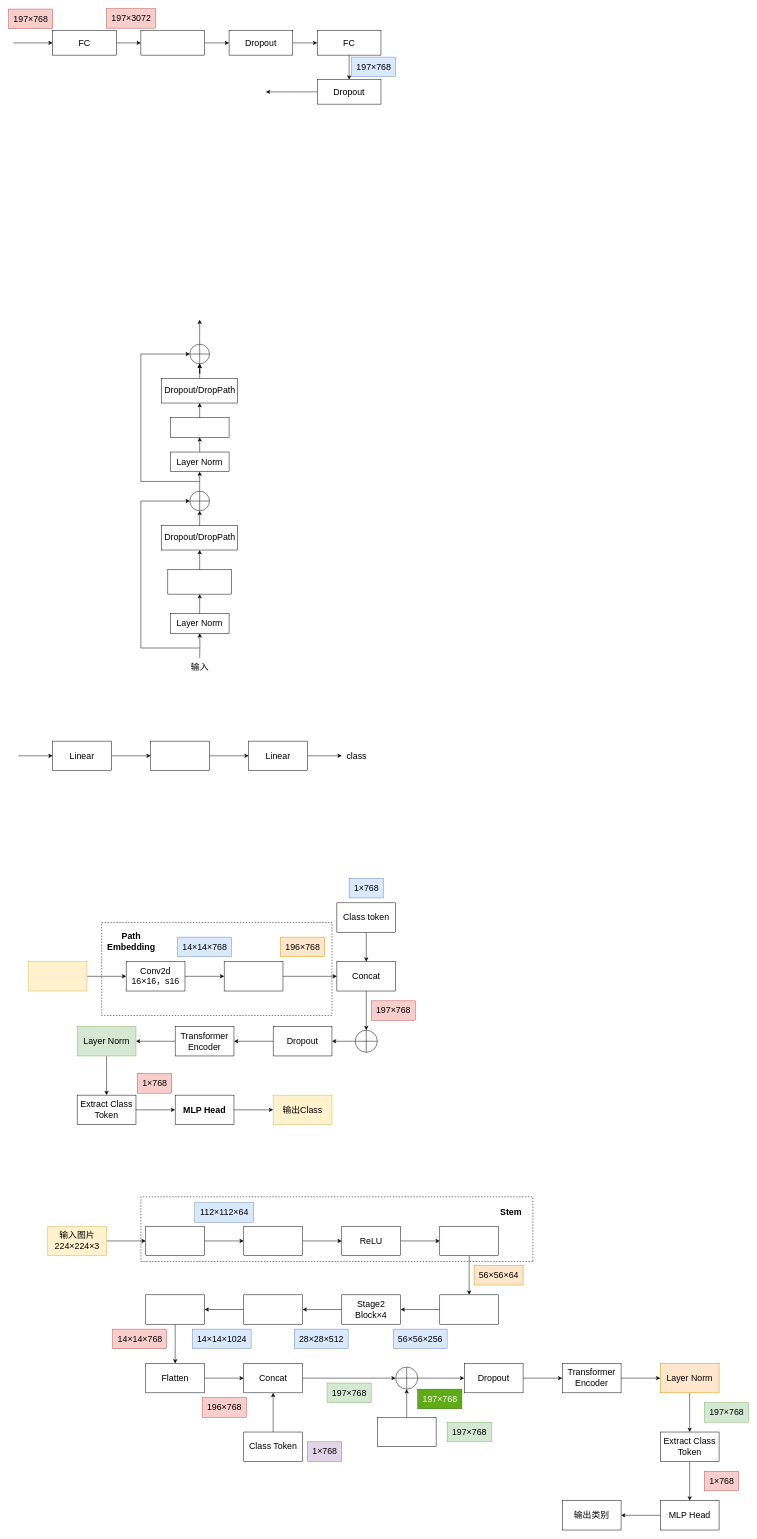
This 757x1539 diagram has some shape labels left out. Here are the shapes that lost their labels. From the top down, the centre of each, then its label:
At (x=172, y=42): "GELU".
At (x=199, y=427): "MLP Block".
At (x=199, y=581): "Multi-Head Attention".
At (x=179, y=756): "tanh函数".
At (x=57, y=976): "输入图片 （224×224×3）".
At (x=253, y=976): "Flattern".
At (x=175, y=1241): "StdConv2d 7×7，s2".
At (x=273, y=1241): "GroupNorm".
At (x=469, y=1241): "MaxPool".
At (x=175, y=1309): "Conv2d 1×1，s1".
At (x=273, y=1309): "Stage3 Block×9".
At (x=469, y=1309): "Stage1 Block×3".
At (x=406, y=1432): "Position Embedding".
